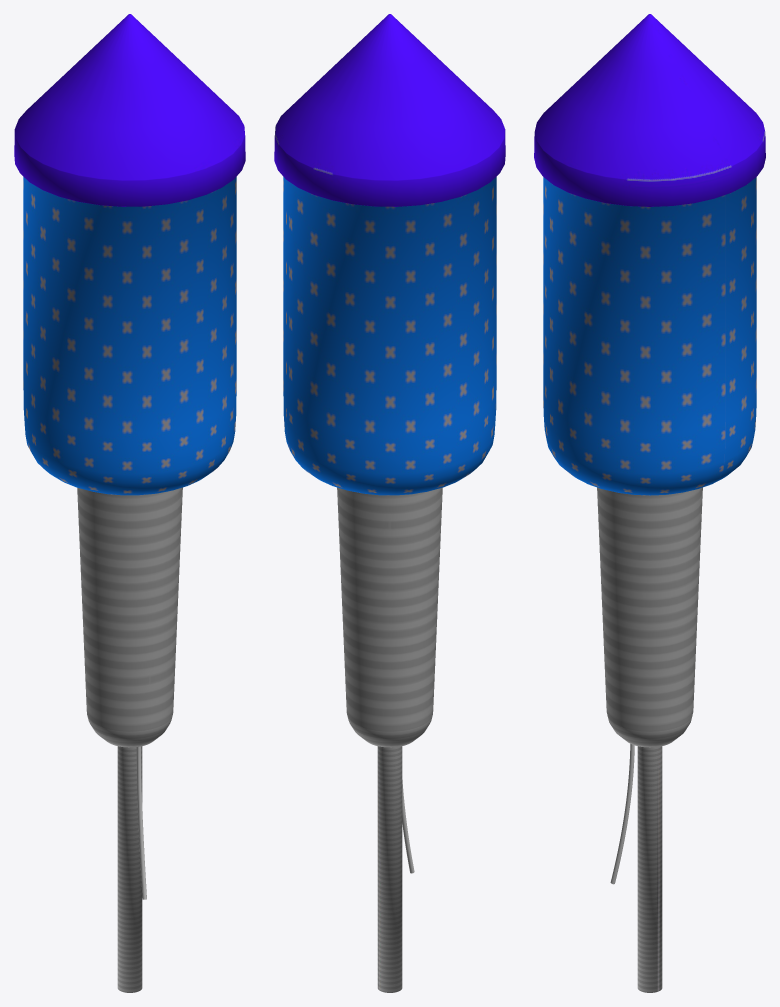
3 views of the same model, side by side, from view 1: azimuth 30°, elevation 25°; view 2: azimuth 150°, elevation 25°; view 3: azimuth 270°, elevation 25° (orthographic).
Visible parts, largest first — view 1: Roket1; view 2: Roket1; view 3: Roket1.
Part boxes in pixels (x1,y1,x2,y2): Roket1: (14,14,245,992); Roket1: (274,14,505,992); Roket1: (534,14,765,992).
Size of the model in its own units: 204 by 943 by 204.
